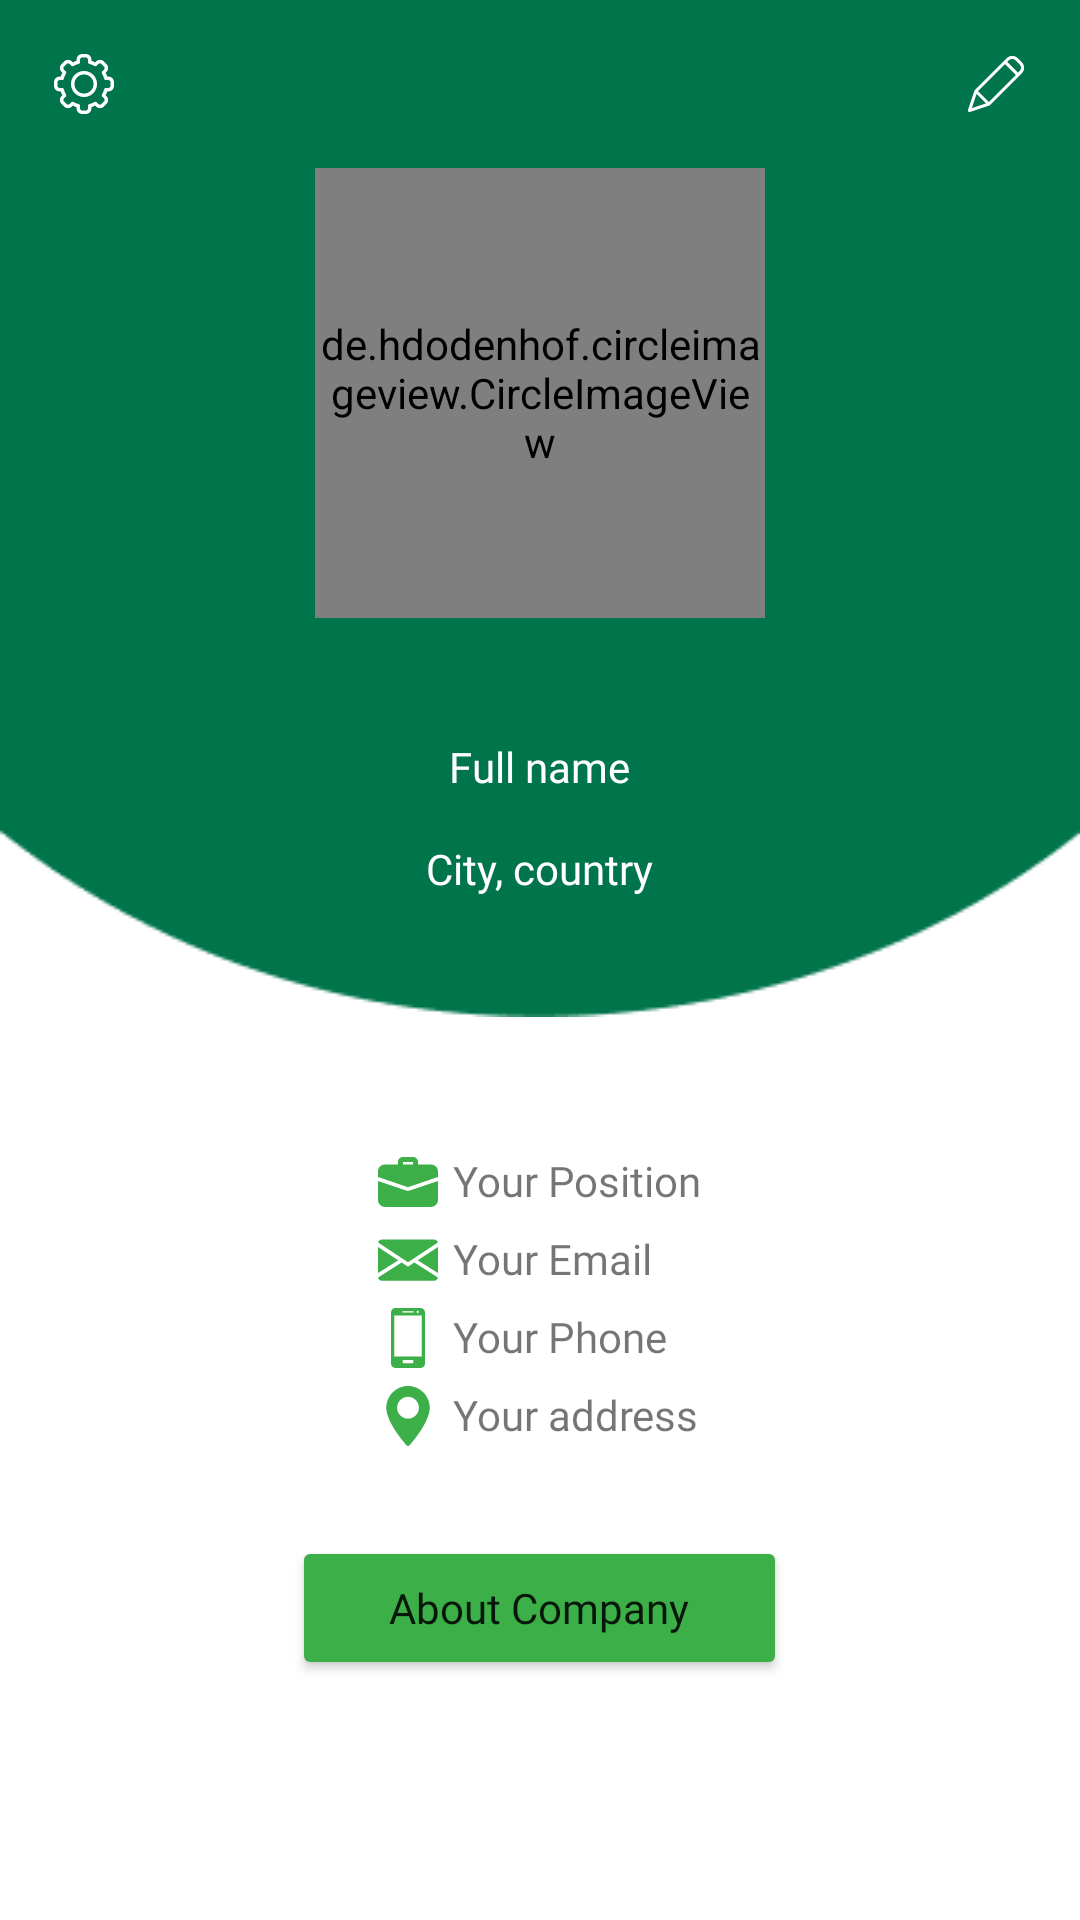

Icons on this 1080 x 1920 Android screen, each with the point to tap as point (x, y):
edit: point (996, 83)
email darkgreen: point (408, 1260)
marker location darkgreen: point (408, 1416)
settings profile: point (84, 84)
smartphone darkgreen: point (408, 1338)
suitcase darkgreen: point (408, 1182)
